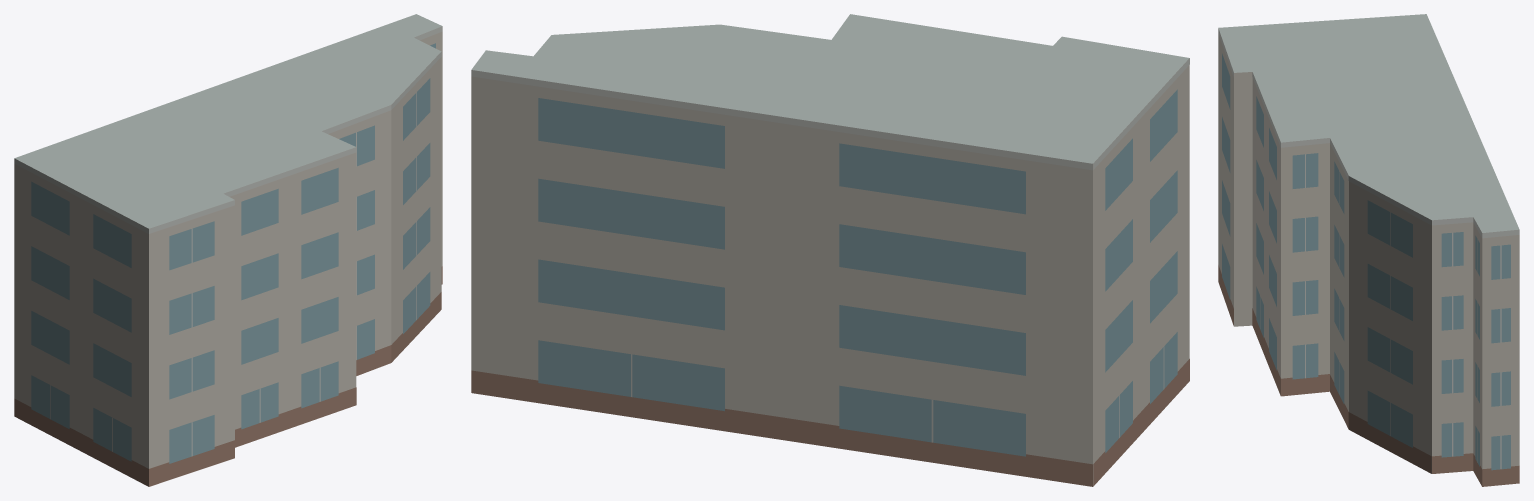
The model's file is survey-upis-33034042.glb.
The picture shows the model from 3 angles, left to right: view 1: azimuth 30°, elevation 25°; view 2: azimuth 150°, elevation 25°; view 3: azimuth 270°, elevation 25°; orthographic projection. The views are drawn at different scales.
Visible parts, largest first — view 1: survey-upis-33034042.tmp; view 2: survey-upis-33034042.tmp; view 3: survey-upis-33034042.tmp.
Boxes of the visible parts, x1,y1,x2,y2 form: survey-upis-33034042.tmp: (14,14,442,486); survey-upis-33034042.tmp: (471,14,1189,486); survey-upis-33034042.tmp: (1218,14,1519,486).
Bounding box in the file's own units: 22.05 × 11.9 × 12.82.
